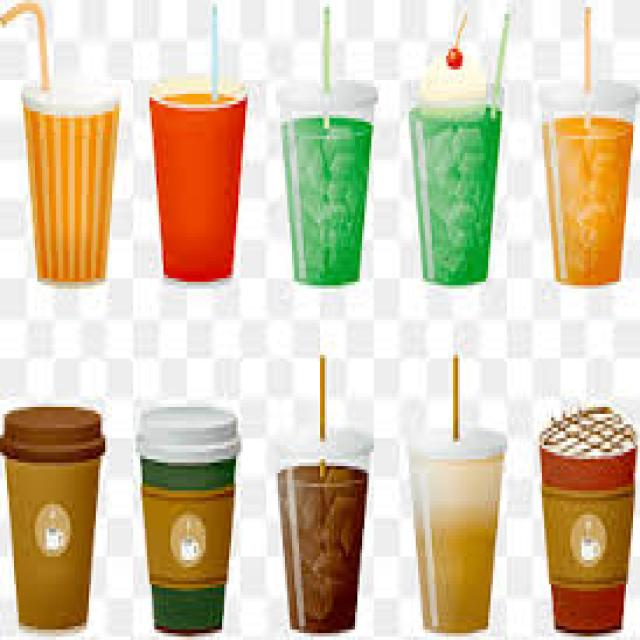bottle: (283, 82, 378, 284), (411, 430, 506, 632), (540, 86, 636, 284), (26, 87, 119, 280), (542, 447, 636, 632), (151, 97, 246, 280), (143, 458, 235, 632), (6, 458, 100, 626), (412, 110, 501, 284), (282, 460, 368, 632)
